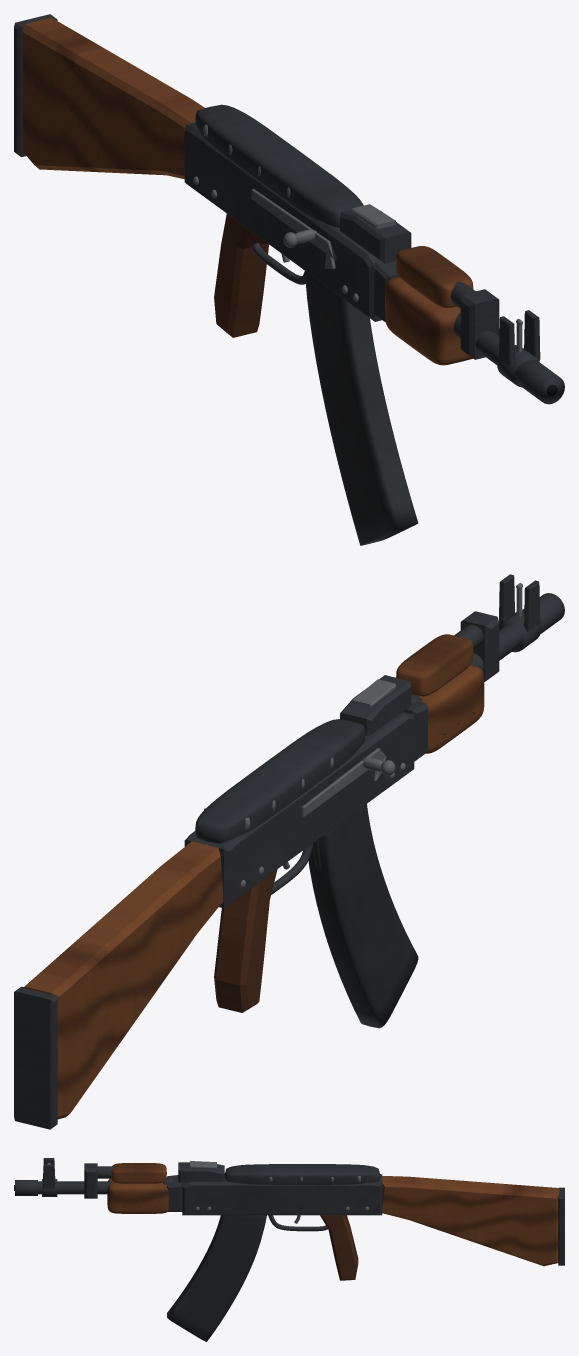
The picture shows the model from 3 angles, top to bottom: view 1: azimuth 30°, elevation 25°; view 2: azimuth 150°, elevation 25°; view 3: azimuth 270°, elevation 25°; orthographic projection. The views are drawn at different scales.
Visible parts, largest first — view 1: Body, Magazine; view 2: Body, Magazine; view 3: Body, Magazine.
Boxes of the visible parts, x1,y1,x2,y2 form: Body: (14, 14, 564, 404); Magazine: (305, 271, 418, 545); Body: (14, 574, 564, 1129); Magazine: (308, 804, 418, 1028); Body: (14, 1158, 564, 1280); Magazine: (167, 1215, 266, 1341).
Bounding box in the file's own units: 0.259 × 1.02 × 2.87.
1 material, 1 textured.
